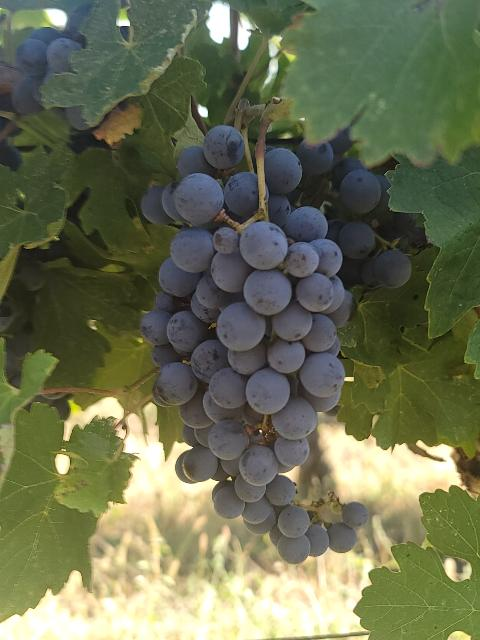grapes: (140, 222, 368, 564)
